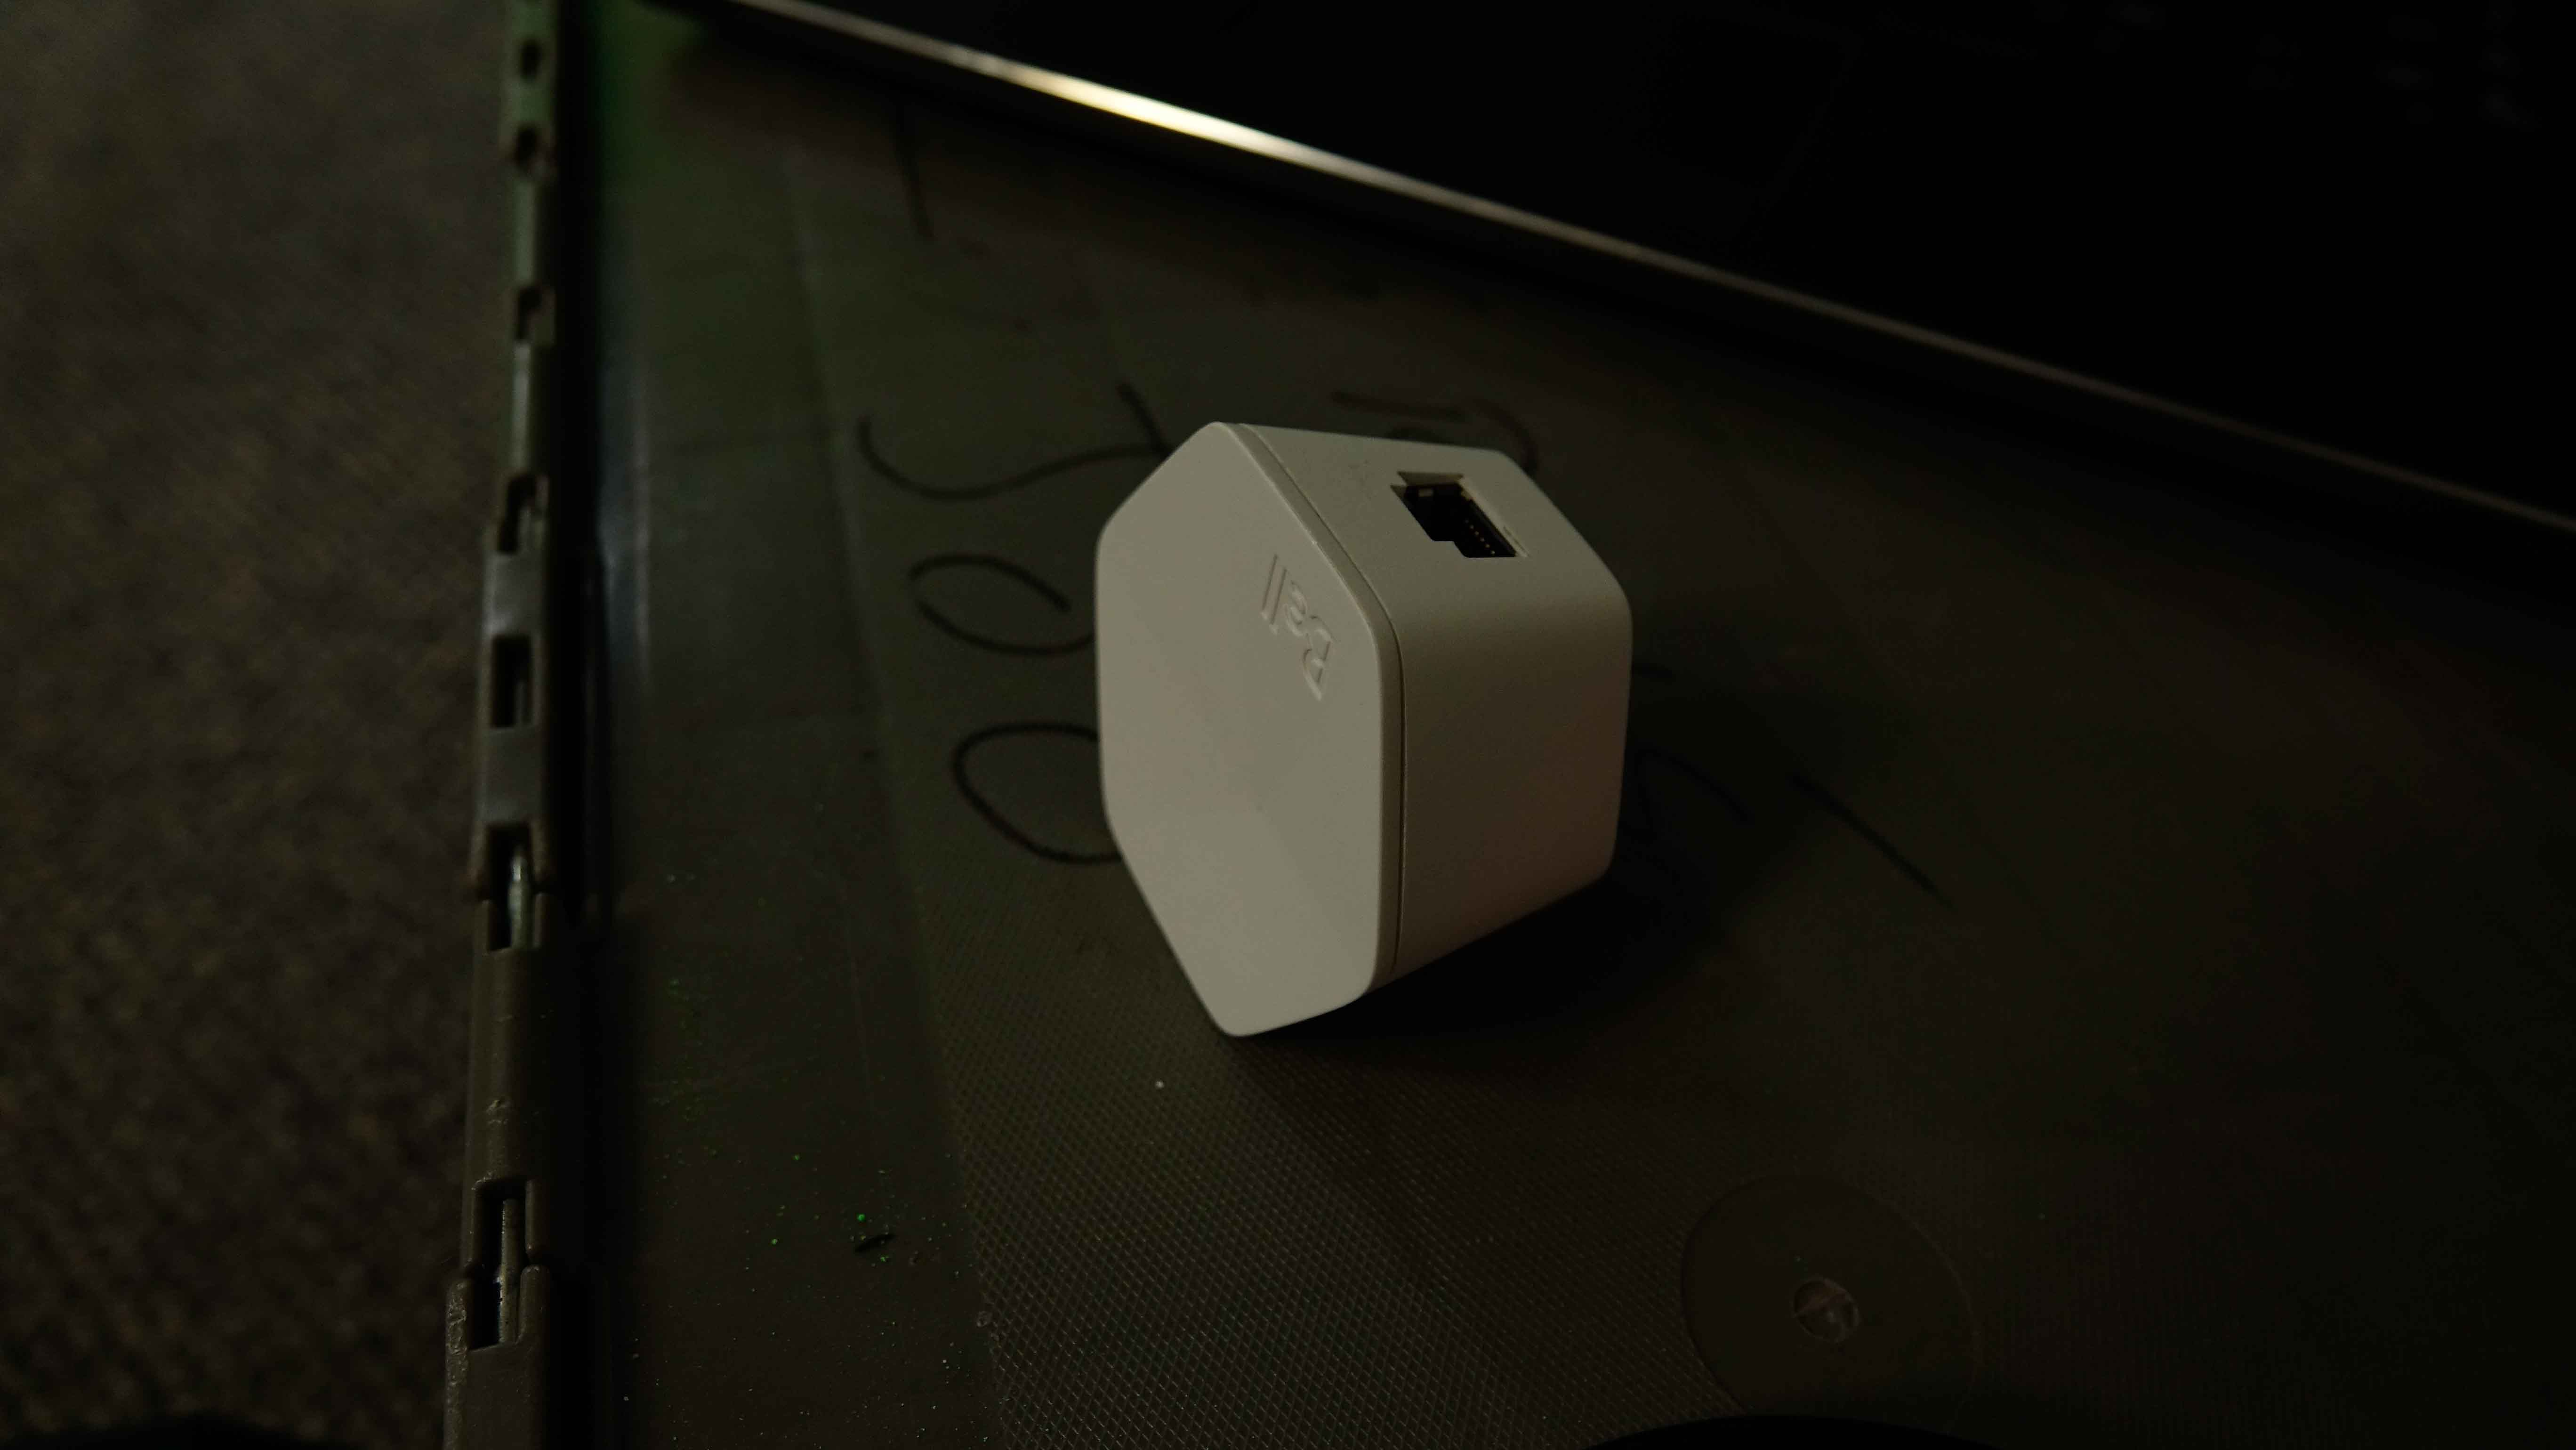pod: (1086, 410, 1645, 1054)
